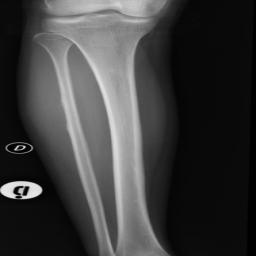cancer: (57, 62, 85, 143)
